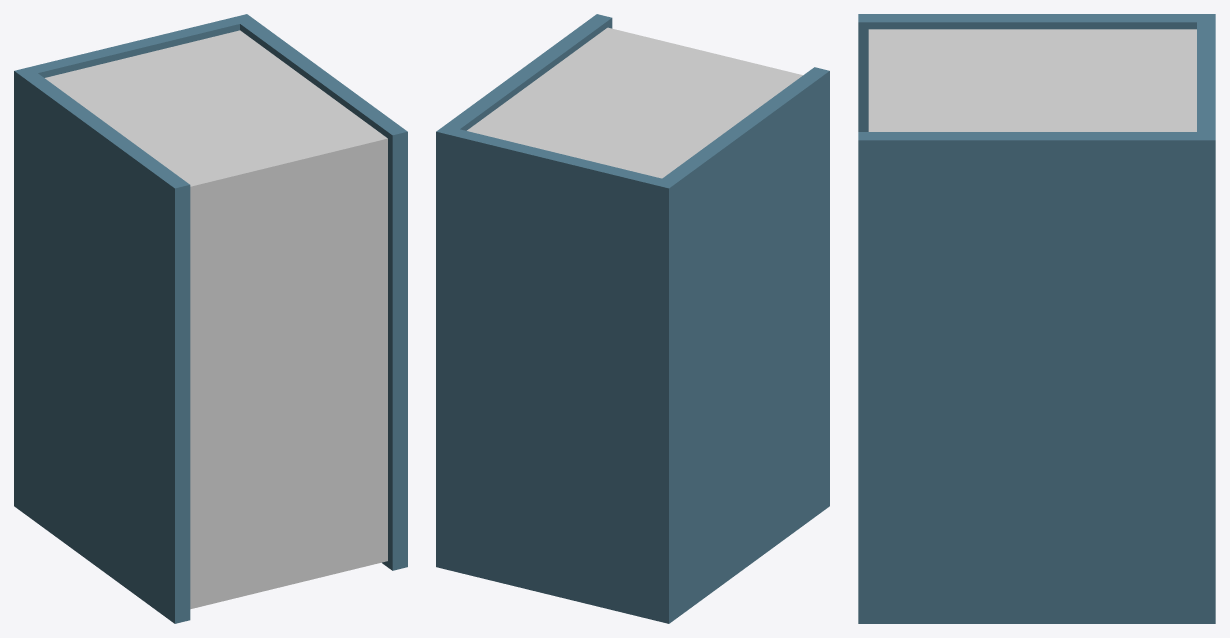
File: book_7.fbx
3 renders of one model, left to right at view 1: azimuth 30°, elevation 25°; view 2: azimuth 150°, elevation 25°; view 3: azimuth 270°, elevation 25°, orthographic. The views are drawn at different scales.
Visible parts, largest first — view 1: book_7; view 2: book_7; view 3: book_7.
Boxes of the visible parts, x1,y1,x2,y2 form: book_7: (14, 14, 407, 623); book_7: (436, 14, 829, 623); book_7: (858, 14, 1215, 623).
Bounding box in the file's own units: 21.54 × 38.48 × 25.75.
